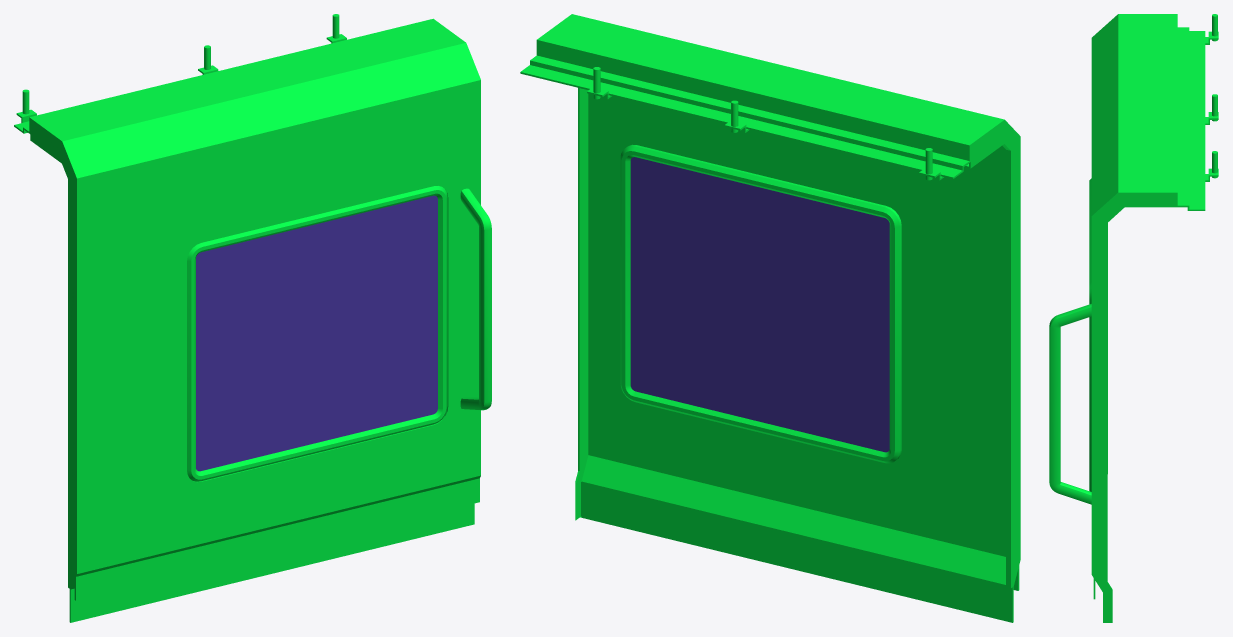
File: Main_Leftdoor.fbx
3 renders of one model, left to right at view 1: azimuth 30°, elevation 25°; view 2: azimuth 150°, elevation 25°; view 3: azimuth 270°, elevation 25°, orthographic. The views are drawn at different scales.
Parts seen in each view (by area): view 1: Main_Leftdoor; view 2: Main_Leftdoor; view 3: Main_Leftdoor.
Part boxes in pixels (x1,y1,x2,y2): Main_Leftdoor: [14, 14, 491, 622]; Main_Leftdoor: [520, 14, 1020, 622]; Main_Leftdoor: [1049, 14, 1218, 622].
Size of the model in its own units: 130 by 148 by 52.03.
